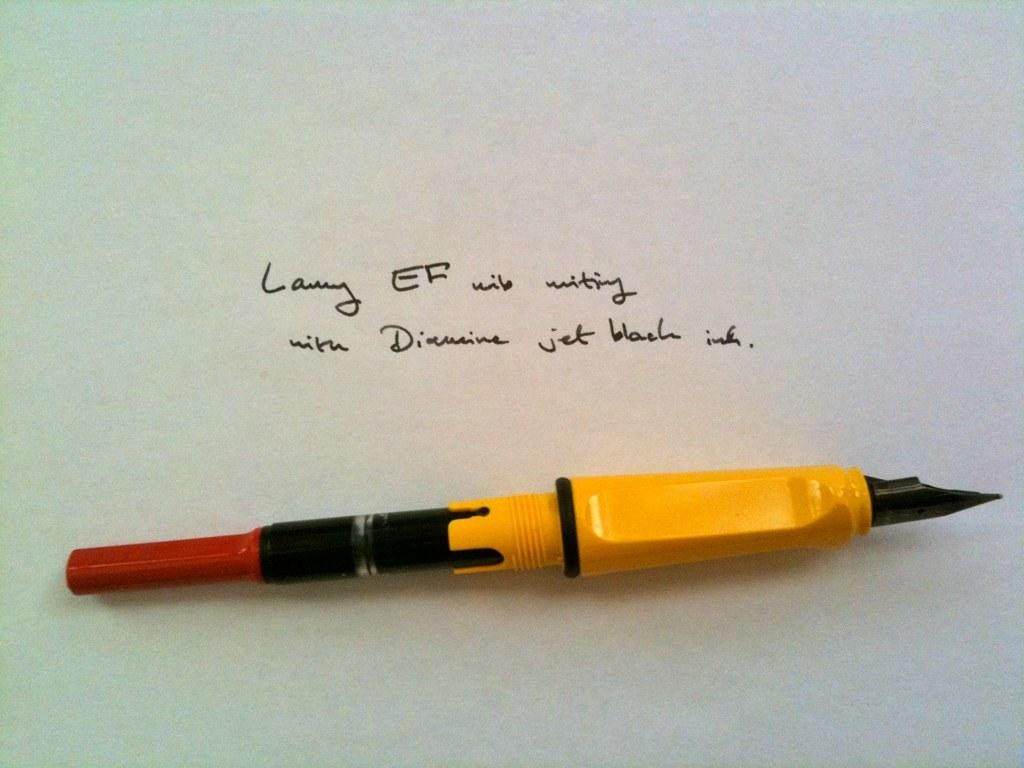pen: (62, 465, 1003, 601)
